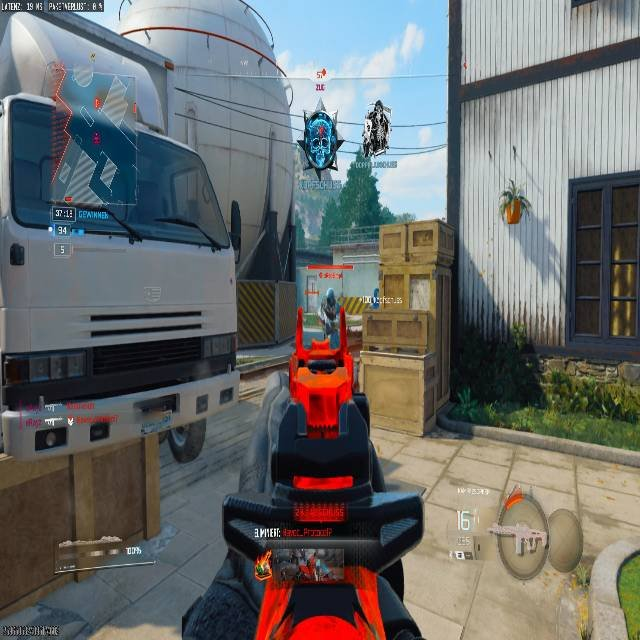head: (326, 280, 336, 295), (326, 287, 335, 297)
player: (362, 98, 391, 158), (320, 287, 339, 344), (322, 285, 342, 321)
